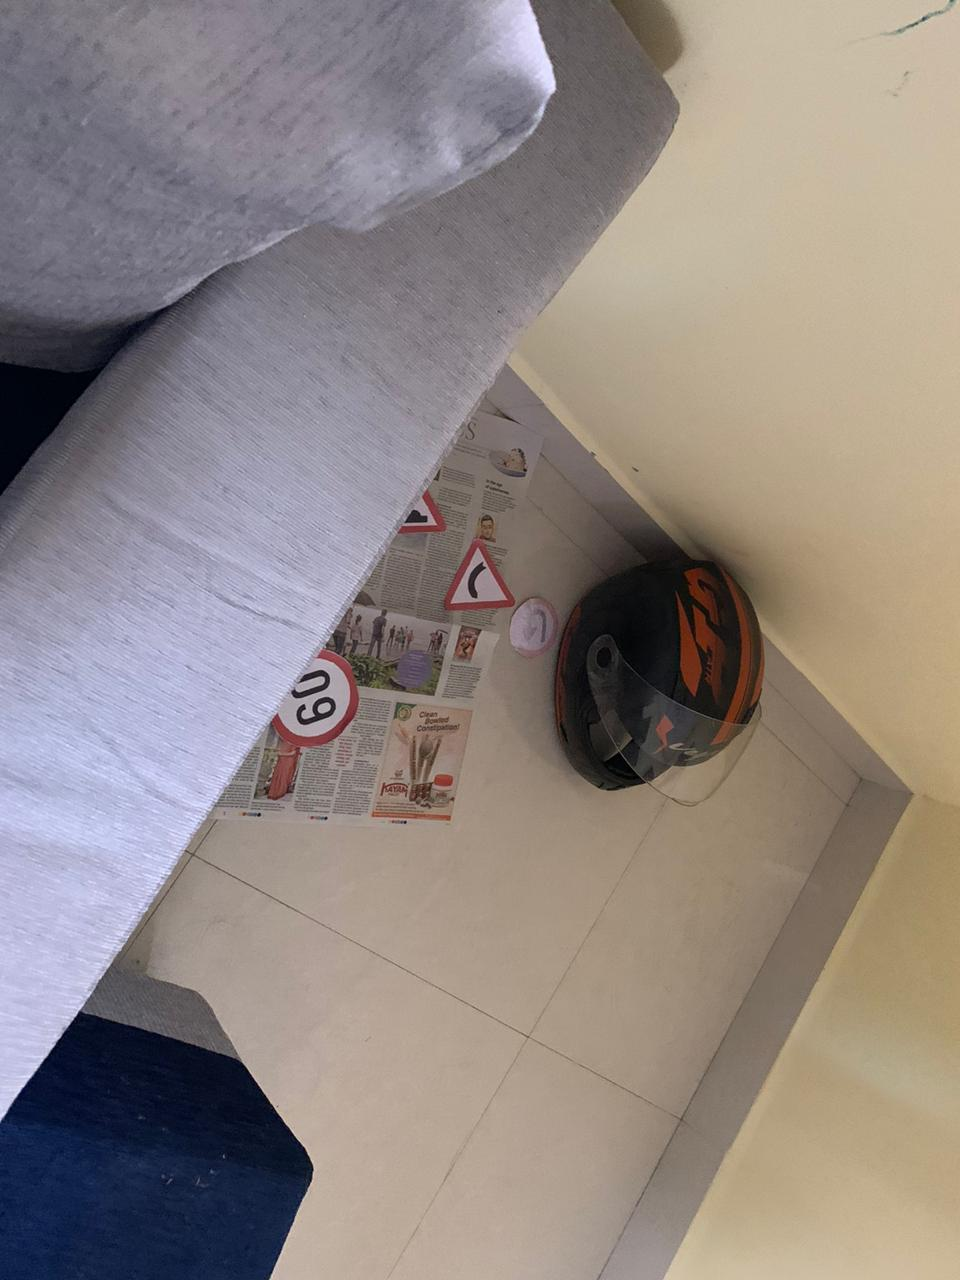LEFT CURVE: (445, 534, 518, 618)
SPEED LIMIT (60 KM/H): (236, 627, 365, 750)
UNEVEN ROAD: (371, 475, 465, 541)
